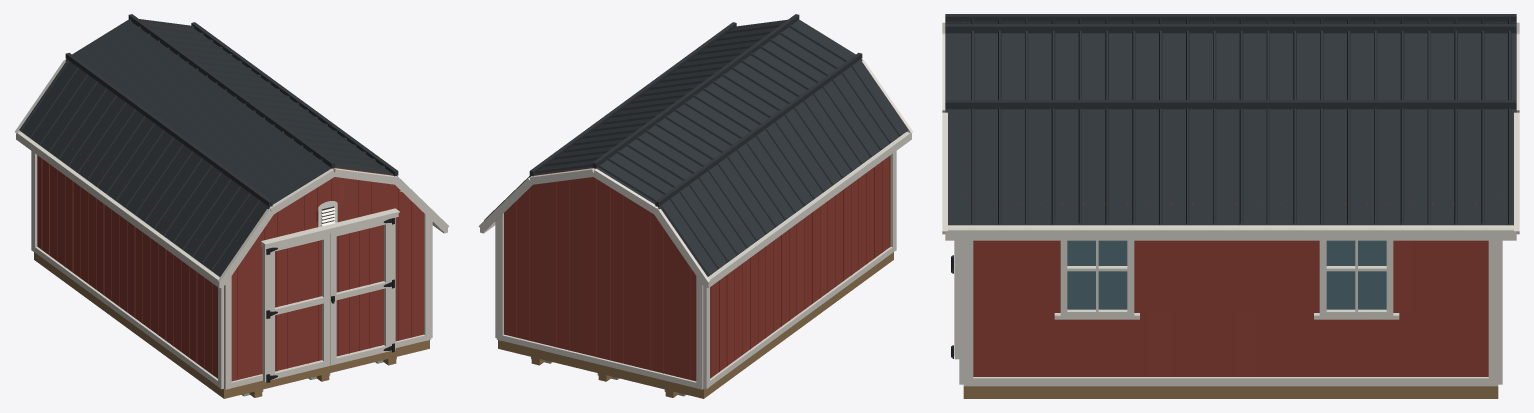
Rendered from 04-basic-lofted-barn.glb.
The picture shows the model from 3 angles, left to right: view 1: azimuth 30°, elevation 25°; view 2: azimuth 150°, elevation 25°; view 3: azimuth 270°, elevation 25°; orthographic projection. The views are drawn at different scales.
Parts seen in each view (by area): view 1: Main roof, left wall, front wall double, front wall, Floor platform and skids, front wall vent; view 2: Main roof, rear wall, left wall, Floor platform and skids; view 3: Main roof, right wall, right wall window, Floor platform and skids, front wall double, front wall, rear wall.
Boxes of the visible parts, left/top/right/bottom form: Main roof: left=15, top=14, right=449, bottom=288; left wall: left=31, top=126, right=223, bottom=389; front wall double: left=261, top=208, right=399, bottom=382; front wall: left=224, top=164, right=431, bottom=389; Floor platform and skids: left=34, top=252, right=429, bottom=398; front wall vent: left=318, top=201, right=337, bottom=226; Main roof: left=478, top=14, right=912, bottom=288; rear wall: left=496, top=164, right=703, bottom=389; left wall: left=704, top=123, right=896, bottom=389; Floor platform and skids: left=498, top=252, right=893, bottom=398; Main roof: left=942, top=14, right=1519, bottom=240; right wall: left=963, top=203, right=1498, bottom=386; right wall window: left=1054, top=240, right=1399, bottom=319; Floor platform and skids: left=963, top=386, right=1498, bottom=398; front wall double: left=951, top=240, right=959, bottom=359; front wall: left=959, top=22, right=963, bottom=384; rear wall: left=1498, top=22, right=1502, bottom=384.
Bounding box in the file's own units: 3.4 × 3.18 × 5.27.
